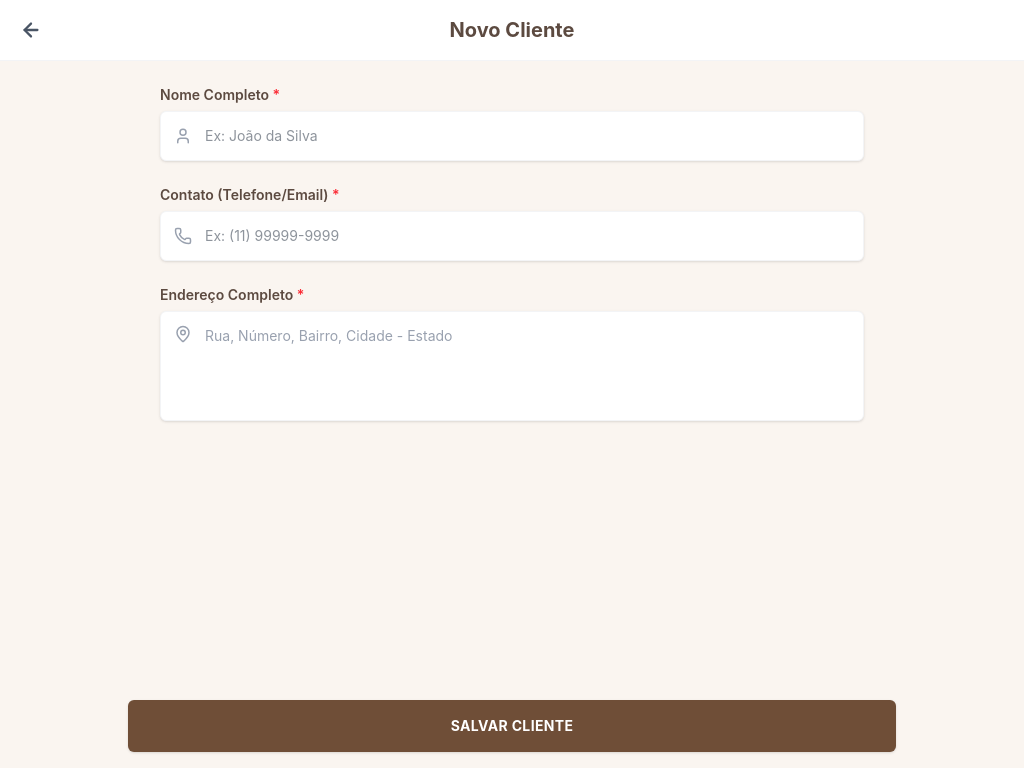
Test case: RegistroCliente › deve mostrar erros de validação ao tentar submeter com campos vazios
This screenshot has width=1024, height=768.
# Clicar em salvar sem preencher nada
Click the button "SALVAR CLIENTE" at (512,726), box [128,700,896,752]
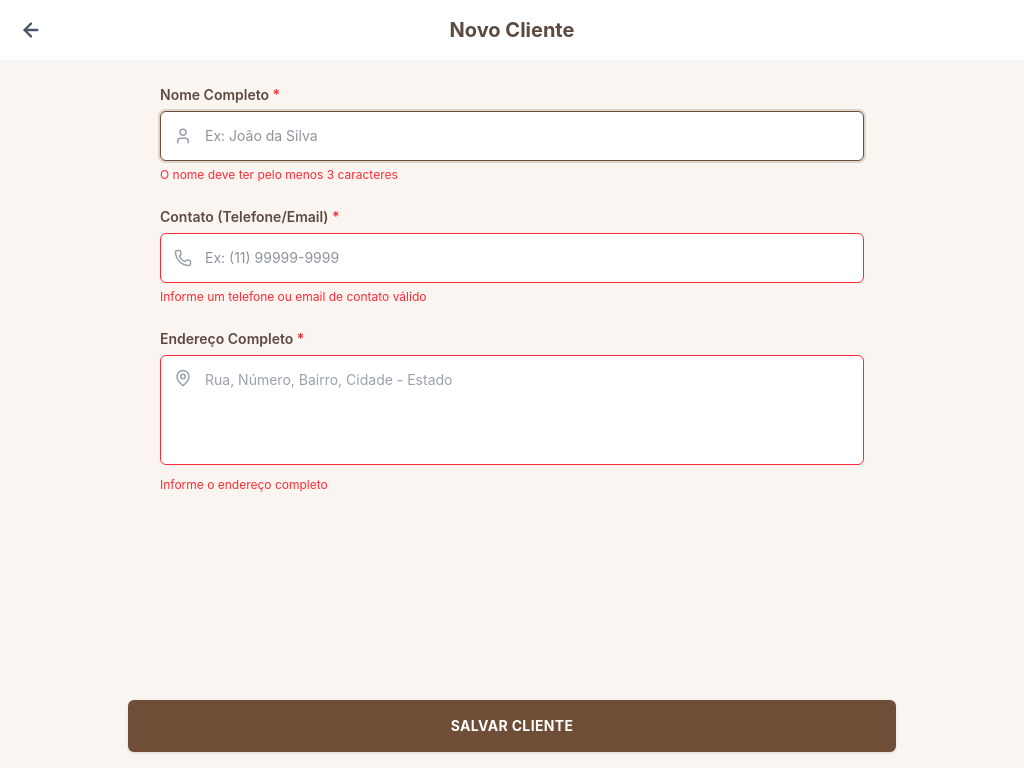
expect the text "O nome deve ter pelo menos 3 caracteres" is shown: met, box [160,167,398,182]
expect the text "Informe um telefone ou email de contato válido" is shown: met, box [160,289,426,304]
expect the text "Informe o endereço completo" is shown: met, box [160,477,328,492]
